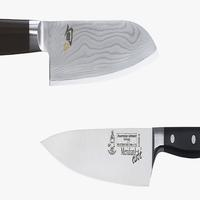knife: (1, 13, 160, 89), (33, 122, 200, 188)
